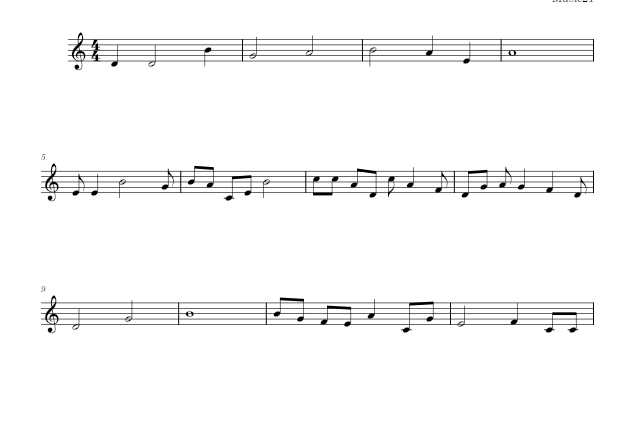Treble Clef: (67, 29, 90, 74), (41, 294, 62, 336), (42, 160, 62, 204)
